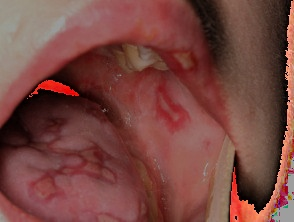SJS-TEN: (21, 112, 133, 222), (142, 86, 190, 132), (173, 44, 202, 81)
